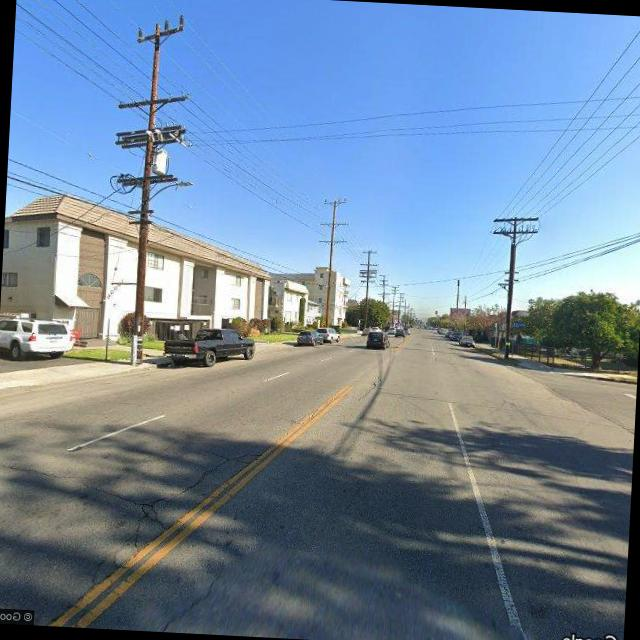crack: (90, 428, 266, 596), (8, 458, 176, 520), (348, 372, 388, 409)
